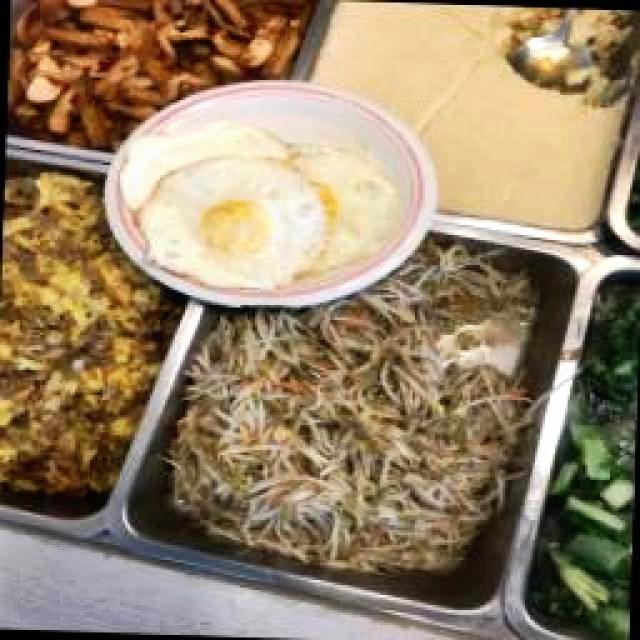fried_eggs: (126, 125, 398, 275), (139, 155, 336, 291)
mung_bean_sprouts: (188, 256, 520, 571)
